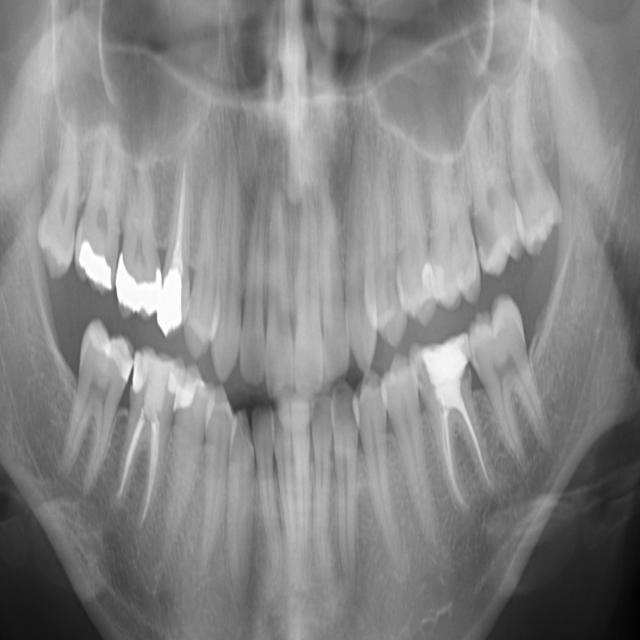dentin-curugu: (472, 208, 499, 252)
kanal-tedavisi: (434, 392, 488, 499), (128, 409, 166, 529), (158, 173, 198, 281)
kaplama: (102, 250, 165, 324), (415, 332, 476, 399), (77, 234, 113, 310), (157, 269, 190, 344)
